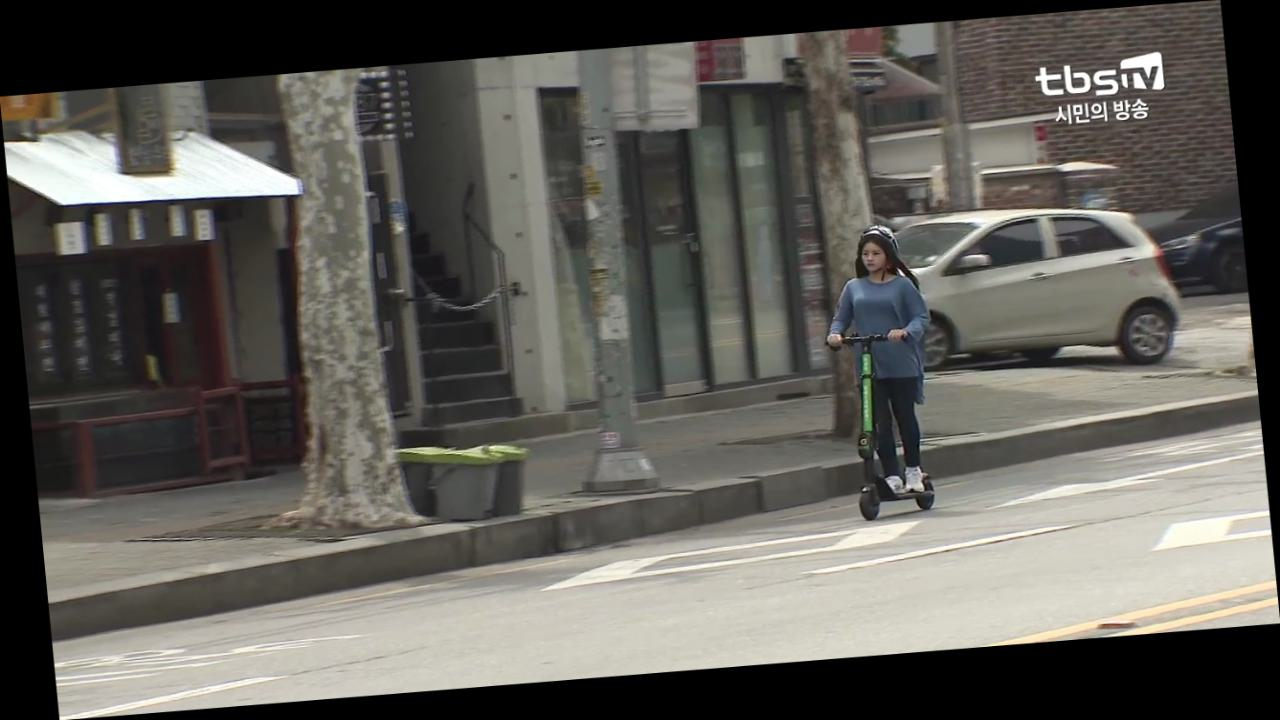helmet: (814, 218, 952, 523)
